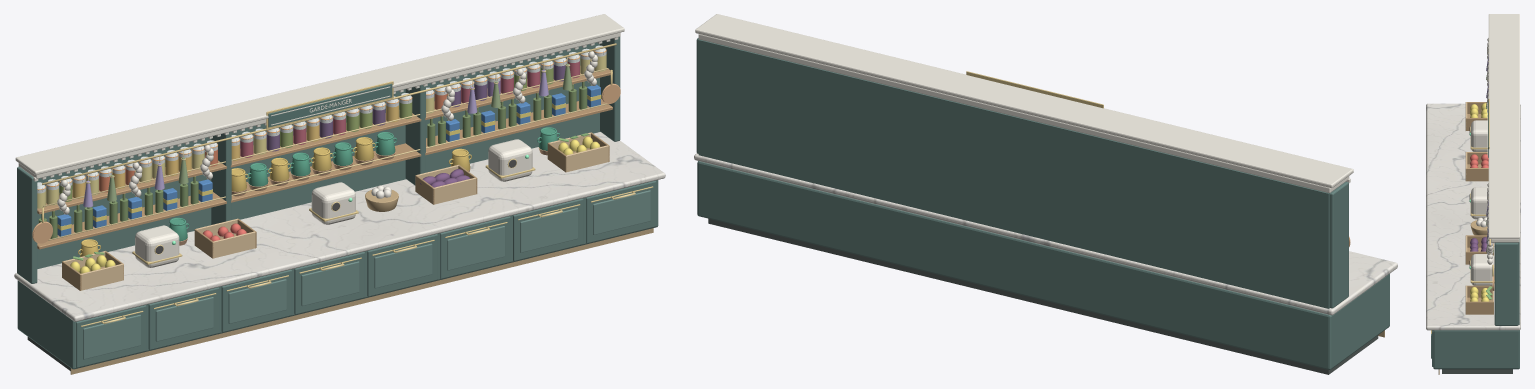
The model's file is pantry.glb.
The picture shows the model from 3 angles, left to right: view 1: azimuth 30°, elevation 25°; view 2: azimuth 150°, elevation 25°; view 3: azimuth 270°, elevation 25°; orthographic projection. The views are drawn at different scales.
Visible parts, largest first — view 1: pantry_green_lacquer, pantry_carrara_back, pantry_ivory_cornice, pantry_green_lacquer_panel, pantry_oak_shelf, pantry, pantry_appliance_cream, pantry_jar_glass, pantry_crate_wood, pantry_oil_glass, pantry_brass, pantry_bronze (+15 smaller); view 2: pantry_green_lacquer, pantry_ivory_cornice, pantry_carrara_back, pantry_plinth, pantry_brass; view 3: pantry_carrara_back, pantry_ivory_cornice, pantry_green_lacquer, pantry_crate_slat, pantry_appliance_cream, pantry_garlic, pantry_lemon, pantry_plinth, pantry_brass, pantry_crate_wood, pantry_tomato, pantry_aubergine (+2 smaller).
Boxes of the visible parts, left/top/right/bottom form: pantry_green_lacquer: left=17, top=37, right=658, bottom=369; pantry_carrara_back: left=14, top=132, right=665, bottom=321; pantry_ivory_cornice: left=15, top=14, right=624, bottom=181; pantry_green_lacquer_panel: left=83, top=190, right=650, bottom=359; pantry_oak_shelf: left=37, top=66, right=612, bottom=249; pantry: left=37, top=54, right=606, bottom=208; pantry_appliance_cream: left=135, top=139, right=532, bottom=267; pantry_jar_glass: left=37, top=45, right=606, bottom=193; pantry_crate_wood: left=62, top=132, right=609, bottom=290; pantry_oil_glass: left=38, top=82, right=587, bottom=238; pantry_brass: left=42, top=43, right=653, bottom=326; pantry_bronze: left=70, top=228, right=653, bottom=374; pantry_green_lacquer: left=696, top=38, right=1389, bottom=369; pantry_ivory_cornice: left=695, top=14, right=1353, bottom=192; pantry_carrara_back: left=694, top=153, right=1397, bottom=315; pantry_plinth: left=708, top=218, right=1378, bottom=374; pantry_brass: left=966, top=71, right=1103, bottom=108; pantry_carrara_back: left=1426, top=103, right=1520, bottom=330; pantry_ivory_cornice: left=1488, top=14, right=1519, bottom=243; pantry_green_lacquer: left=1432, top=239, right=1519, bottom=369; pantry_crate_slat: left=1465, top=102, right=1493, bottom=314; pantry_appliance_cream: left=1471, top=120, right=1494, bottom=285; pantry_garlic: left=1476, top=38, right=1493, bottom=264; pantry_lemon: left=1470, top=103, right=1489, bottom=301; pantry_plinth: left=1442, top=369, right=1512, bottom=373; pantry_brass: left=1431, top=99, right=1494, bottom=333; pantry_crate_wood: left=1465, top=102, right=1493, bottom=301; pantry_tomato: left=1470, top=154, right=1488, bottom=167; pantry_aubergine: left=1470, top=237, right=1487, bottom=251.
Bounding box in the file's own units: 6.7 × 1.99 × 1.2.
Materials: 42 (1 with a texture image).
